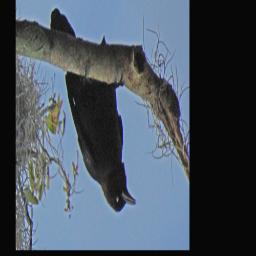Crow: (50, 7, 136, 212)
